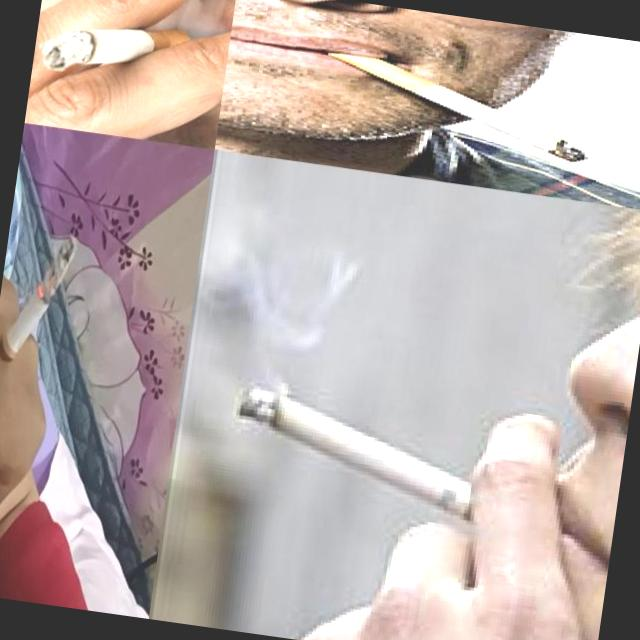cigarette: (224, 383, 562, 548), (316, 46, 600, 166), (0, 224, 79, 409), (38, 11, 194, 90)
